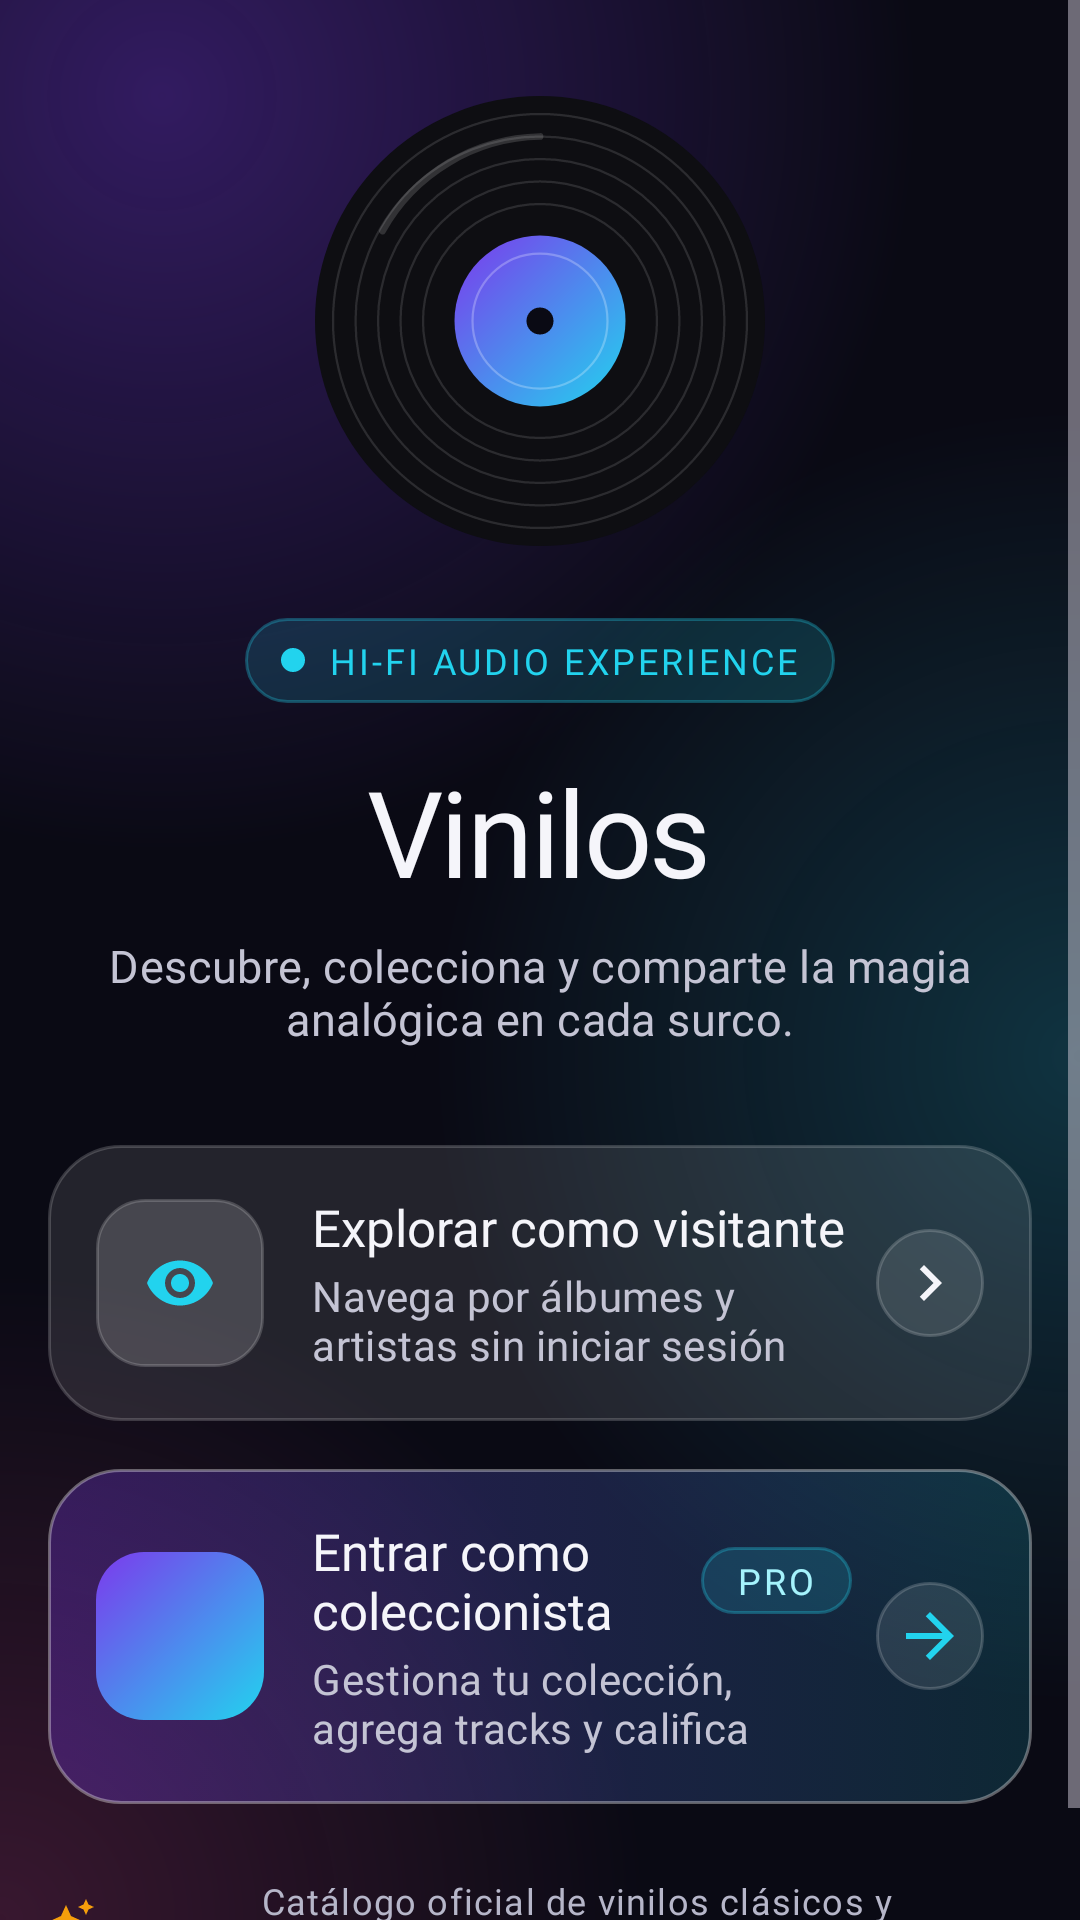

Where icons sit on this 1080 x 1920 app screen, as rect(x1, y1, x2, y2):
arrow forward: rect(876, 1582, 984, 1690)
chevron right: rect(876, 1229, 984, 1337)
eye: rect(96, 1199, 264, 1367)
